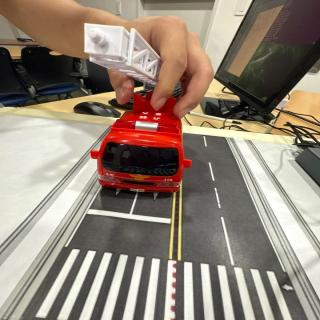Fire_truck: (91, 92, 192, 199)
